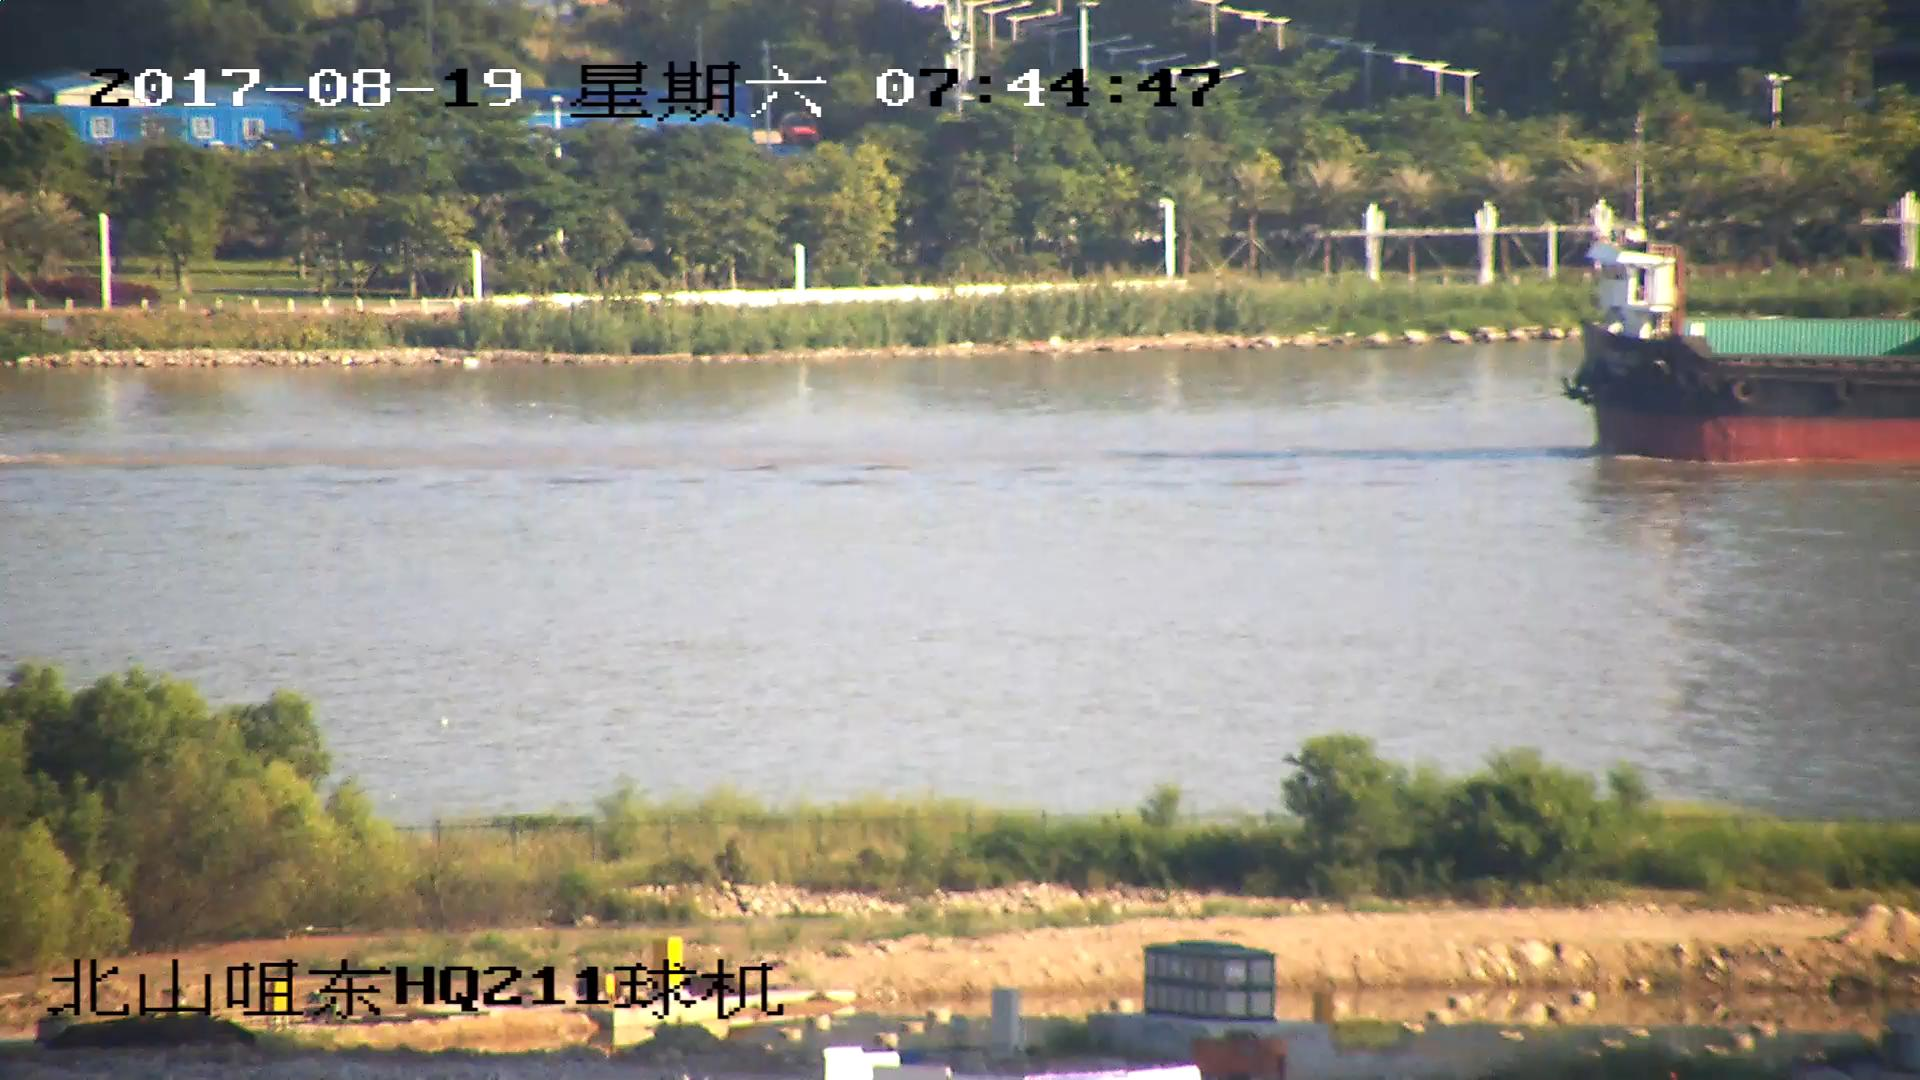container ship: (1561, 209, 1920, 465)
